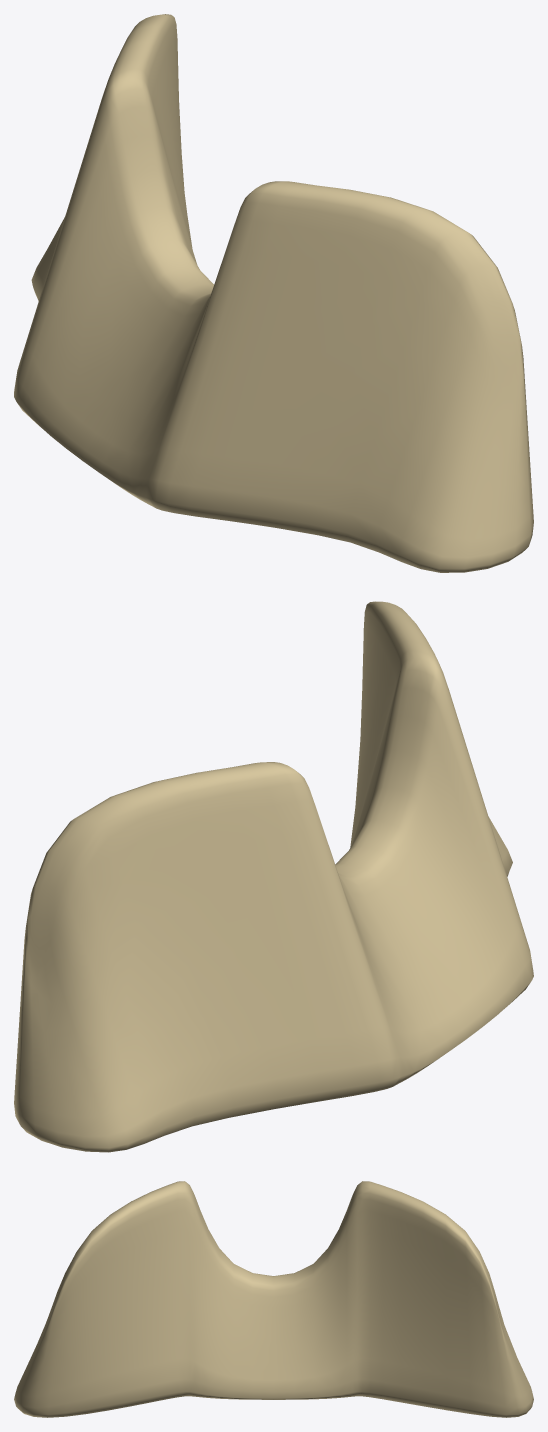
File: Sandwall.fbx
3 views of the same model, one above another, from view 1: azimuth 30°, elevation 25°; view 2: azimuth 150°, elevation 25°; view 3: azimuth 270°, elevation 25° (orthographic). The views are drawn at different scales.
Visible parts, largest first — view 1: Sandwall; view 2: Sandwall; view 3: Sandwall.
Boxes of the visible parts, x1,y1,x2,y2 form: Sandwall: (14,14,533,572); Sandwall: (14,601,533,1152); Sandwall: (14,1181,533,1417).
Bounding box in the file's own units: 175 × 199 × 473.
